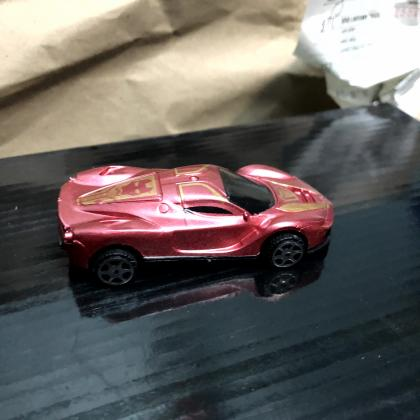Car: (57, 165, 335, 288)
